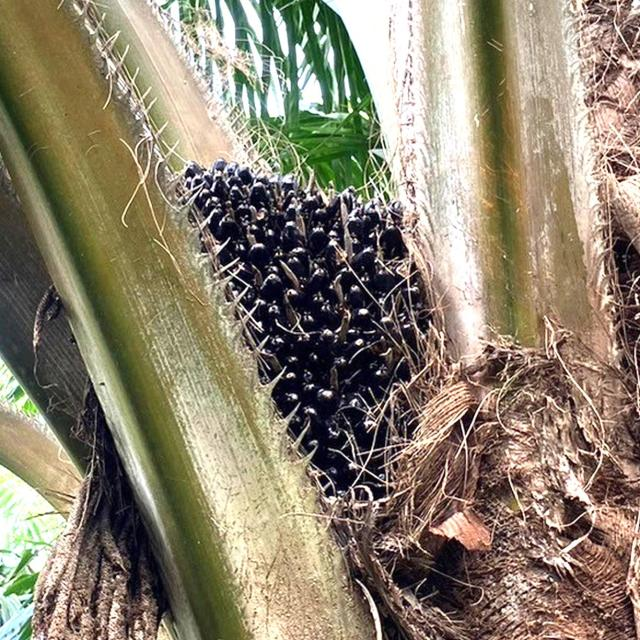unripe: (184, 152, 436, 438)
